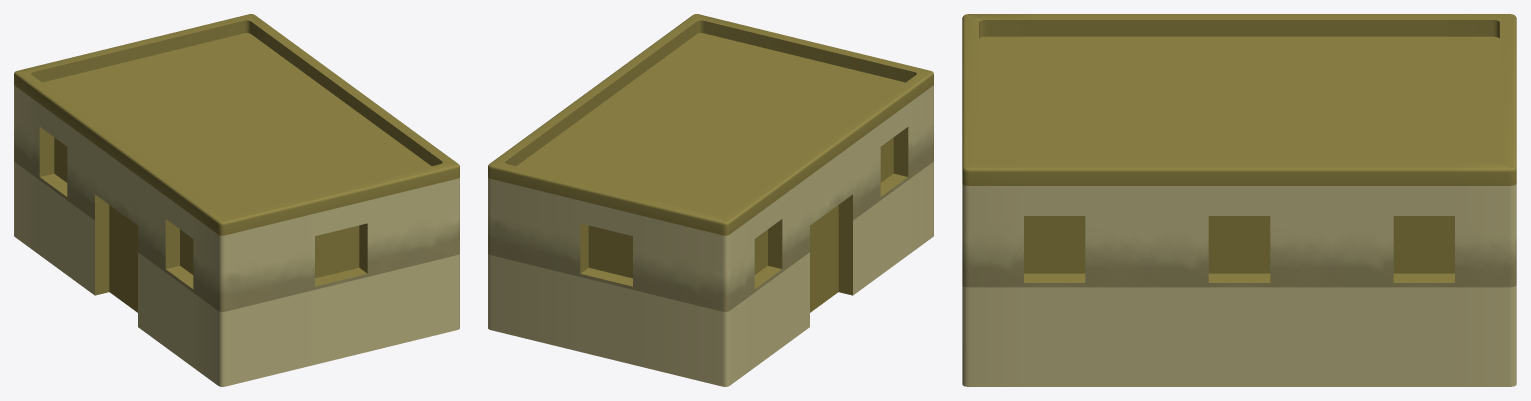
File: CasaBaja.FBX
3 views of the same model, side by side, from view 1: azimuth 30°, elevation 25°; view 2: azimuth 150°, elevation 25°; view 3: azimuth 270°, elevation 25° (orthographic). The views are drawn at different scales.
Visible parts, largest first — view 1: Box001; view 2: Box001; view 3: Box001.
Part boxes in pixels (left/top/right/bottom): Box001: left=14, top=14, right=459, bottom=386; Box001: left=488, top=14, right=933, bottom=386; Box001: left=962, top=14, right=1516, bottom=386.
Size of the model in its own units: 10 by 6.5 by 15.
Materials: 2 (1 with a texture image).
